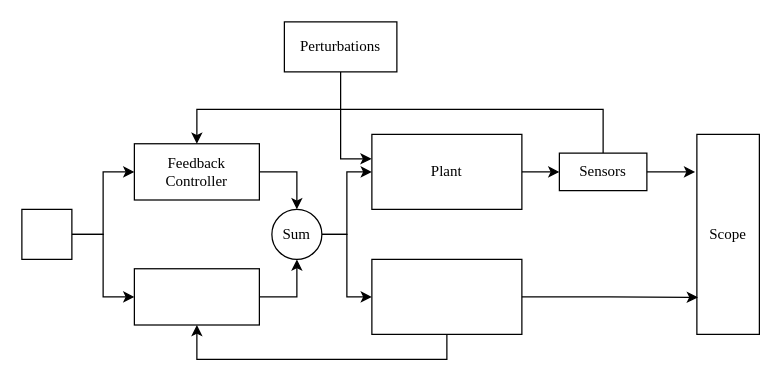
Image size: 781x391. Some labels were removed from this diagram. The shapes that lost their labels are listed below. From the top down, each one's centre as x and y in pixels, then its label:
At point (46, 233): "Step Input".
At point (196, 296): "Forward Controller".
At point (446, 296): "Observer".
